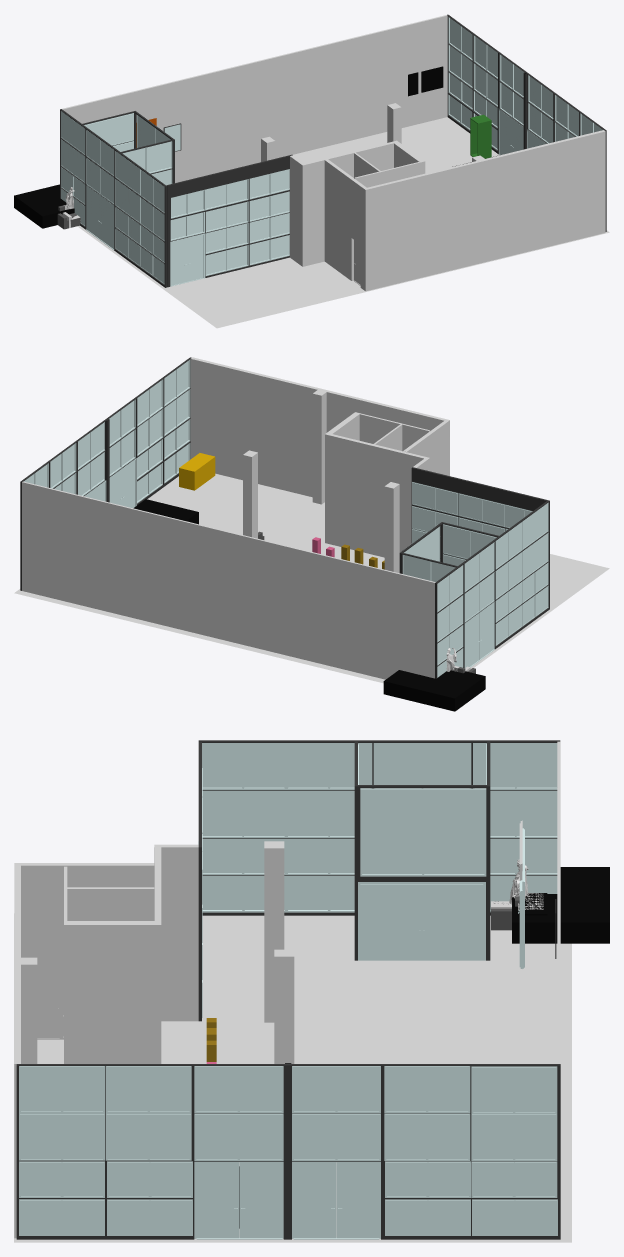
The picture shows the model from 3 angles, top to bottom: view 1: azimuth 30°, elevation 25°; view 2: azimuth 150°, elevation 25°; view 3: azimuth 270°, elevation 25°; orthographic projection. The views are drawn at different scales.
Parts seen in each view (by area): view 1: IfcWall/Wall.007, IfcWall/Wall.008, Plane.001, IfcWall/Wall.010, IfcWall/Wall.013, IfcWall/Wall.011, IfcWall/Wall.012, IfcWall/Wall.009, IfcWall/Wall.006, IfcDoor/Door.006, IfcFurnitureType/Generic Large Desk, IfcDoor/Door.007 (+44 smaller); view 2: IfcWall/Wall.007, IfcWall/Wall.008, Plane.001, IfcWall/Wall.013, IfcFurnitureType/Generic Large Desk, IfcWall/Wall.011, IfcWall/Wall.012, IfcWall/Wall.006, IfcColumn/Column.001, IfcDoor/Door.007, IfcColumn/Column, IfcWall/Wall.010 (+38 smaller); view 3: Plane.001, IfcWall/Wall.001, IfcWindow/Window.022, IfcDoor/Door.003, IfcWall/Wall.012, IfcDoor/Door.005, IfcDoor/Door.004, IfcWall/Wall.009, IfcWall/Wall.010, IfcFurnitureType/Generic Large Desk, IfcWindow/Window.035, IfcWindow/Window.036 (+43 smaller).
Part boxes in pixels (left/top/right/bottom): IfcWall/Wall.007: left=62, top=15, right=447, bottom=182; IfcWall/Wall.008: left=363, top=130, right=605, bottom=291; Plane.001: left=77, top=117, right=609, bottom=328; IfcWall/Wall.010: left=324, top=159, right=366, bottom=289; IfcWall/Wall.013: left=304, top=140, right=398, bottom=265; IfcWall/Wall.011: left=166, top=154, right=292, bottom=287; IfcWall/Wall.012: left=447, top=14, right=606, bottom=231; IfcWall/Wall.009: left=289, top=155, right=305, bottom=266; IfcWall/Wall.006: left=60, top=109, right=166, bottom=287; IfcDoor/Door.006: left=170, top=233, right=205, bottom=286; IfcFurnitureType/Generic Large Desk: left=14, top=184, right=74, bottom=228; IfcDoor/Door.007: left=86, top=184, right=114, bottom=250; IfcWall/Wall.007: left=22, top=481, right=435, bottom=679; IfcWall/Wall.008: left=190, top=357, right=449, bottom=497; Plane.001: left=14, top=473, right=609, bottom=683; IfcWall/Wall.013: left=325, top=433, right=425, bottom=557; IfcFurnitureType/Generic Large Desk: left=383, top=670, right=485, bottom=711; IfcWall/Wall.011: left=411, top=467, right=547, bottom=543; IfcWall/Wall.012: left=20, top=357, right=191, bottom=590; IfcWall/Wall.006: left=435, top=500, right=549, bottom=678; IfcColumn/Column.001: left=312, top=389, right=327, bottom=504; IfcDoor/Door.007: left=464, top=601, right=494, bottom=667; IfcColumn/Column: left=384, top=482, right=399, bottom=573; IfcWall/Wall.010: left=403, top=420, right=448, bottom=475; Plane.001: left=14, top=913, right=571, bottom=1242; IfcWall/Wall.001: left=67, top=921, right=154, bottom=1063; IfcWindow/Window.022: left=360, top=788, right=486, bottom=876; IfcDoor/Door.003: left=358, top=882, right=485, bottom=960; IfcWall/Wall.012: left=16, top=1064, right=560, bottom=1239; IfcDoor/Door.005: left=194, top=1161, right=283, bottom=1239; IfcDoor/Door.004: left=292, top=1161, right=380, bottom=1239; IfcWall/Wall.009: left=154, top=844, right=198, bottom=1021; IfcWall/Wall.010: left=21, top=863, right=154, bottom=1039; IfcFurnitureType/Generic Large Desk: left=512, top=867, right=609, bottom=943; IfcWindow/Window.035: left=194, top=1113, right=283, bottom=1160; IfcWindow/Window.036: left=194, top=1066, right=283, bottom=1113.
Size of the model in its own units: 25.23 by 5.83 by 17.97.
